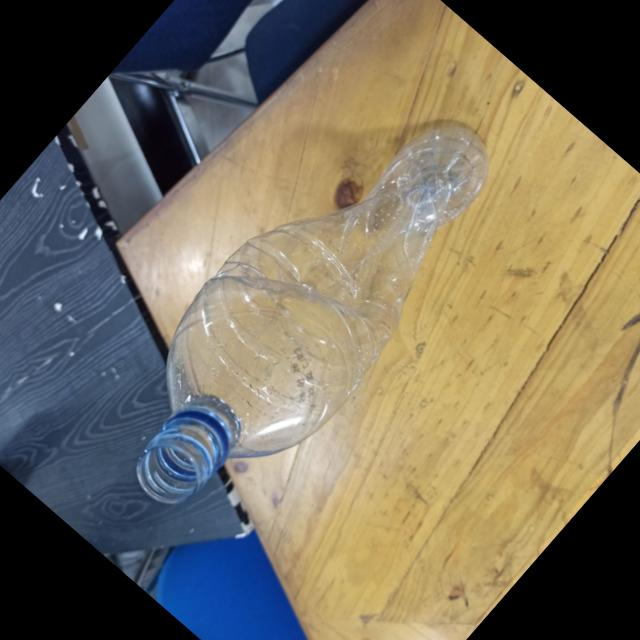BotolPlastik: (74, 64, 536, 555)
